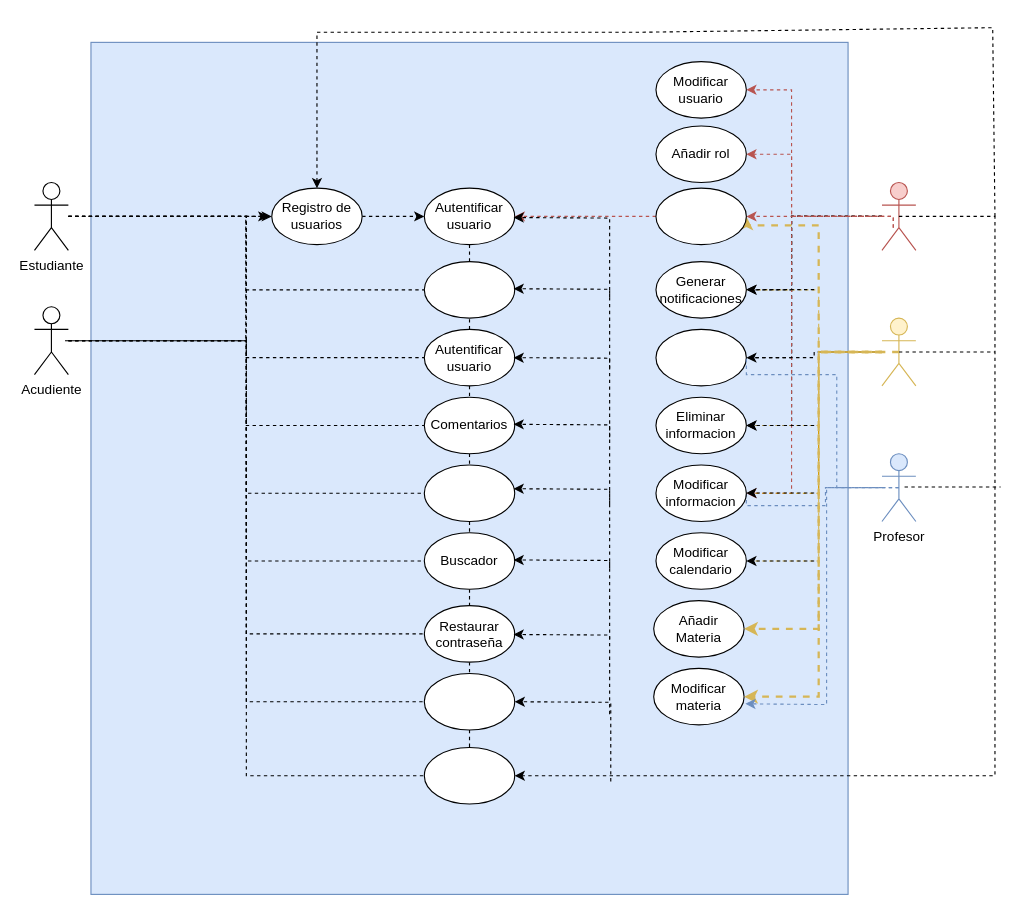
Some shapes in this 1024 by 914 pixel diagram are drawn without their labels. The shapes that lost their labels are listed below. From the top down, each one's centre as x and y in pixels, then its label:
At point 700,216: "Añadir usuarios".
At point 898,215: "Rector".
At point 469,289: "Consultar información".
At point 700,357: "Agregar ifnformacion".
At point 898,351: "Coordinador".
At point 469,492: "Me gusta".
At point 469,701: "reportes".
At point 469,775: "Comunicarse con los directivos".
